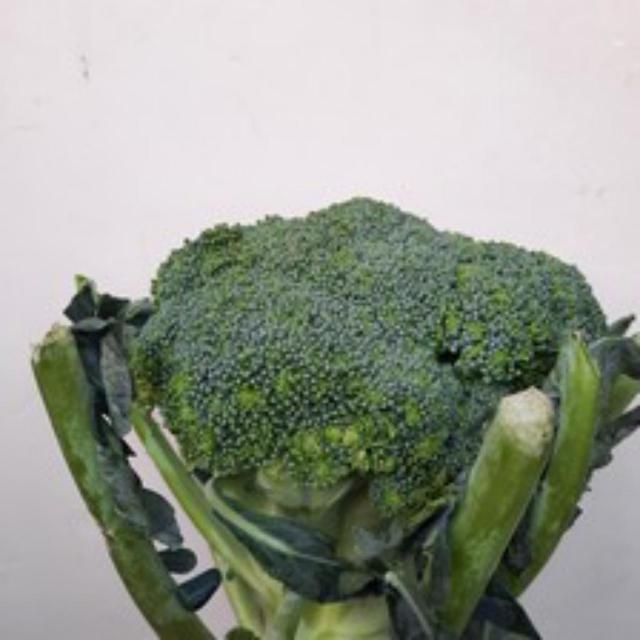broccoli: (100, 188, 637, 637)
